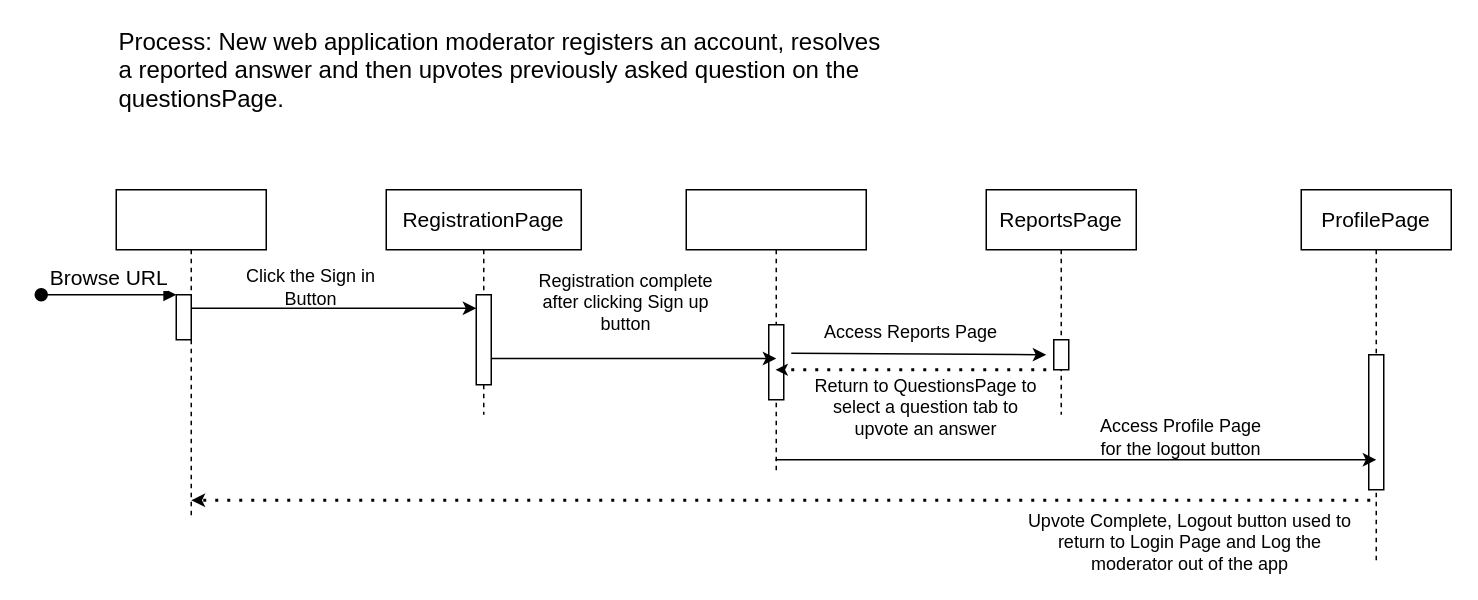
The diagram is 1478 pixels wide and 600 high, and some of its shapes have lost their labels. Here are the shapes that lost their labels. From the top down, the box of each, then its label:
(685, 188, 866, 475): QuestionsPage
(115, 188, 266, 520): LoginPage
